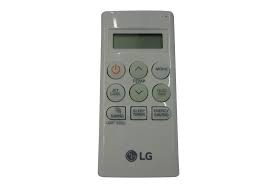remote control: (107, 12, 176, 172)
